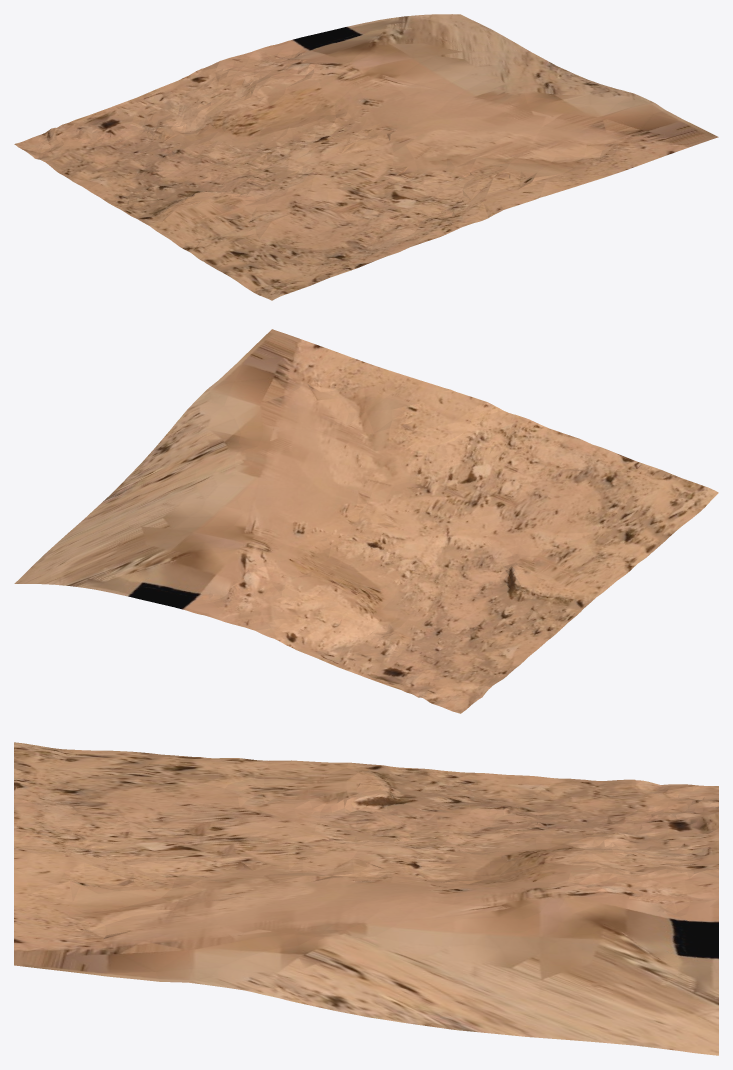
3 renders of one model, top to bottom at view 1: azimuth 30°, elevation 25°; view 2: azimuth 150°, elevation 25°; view 3: azimuth 270°, elevation 25°, orthographic. The views are drawn at different scales.
Size of the model in its own units: 8.36 by 1.55 by 8.36.
Materials: 2 (2 with a texture image).
